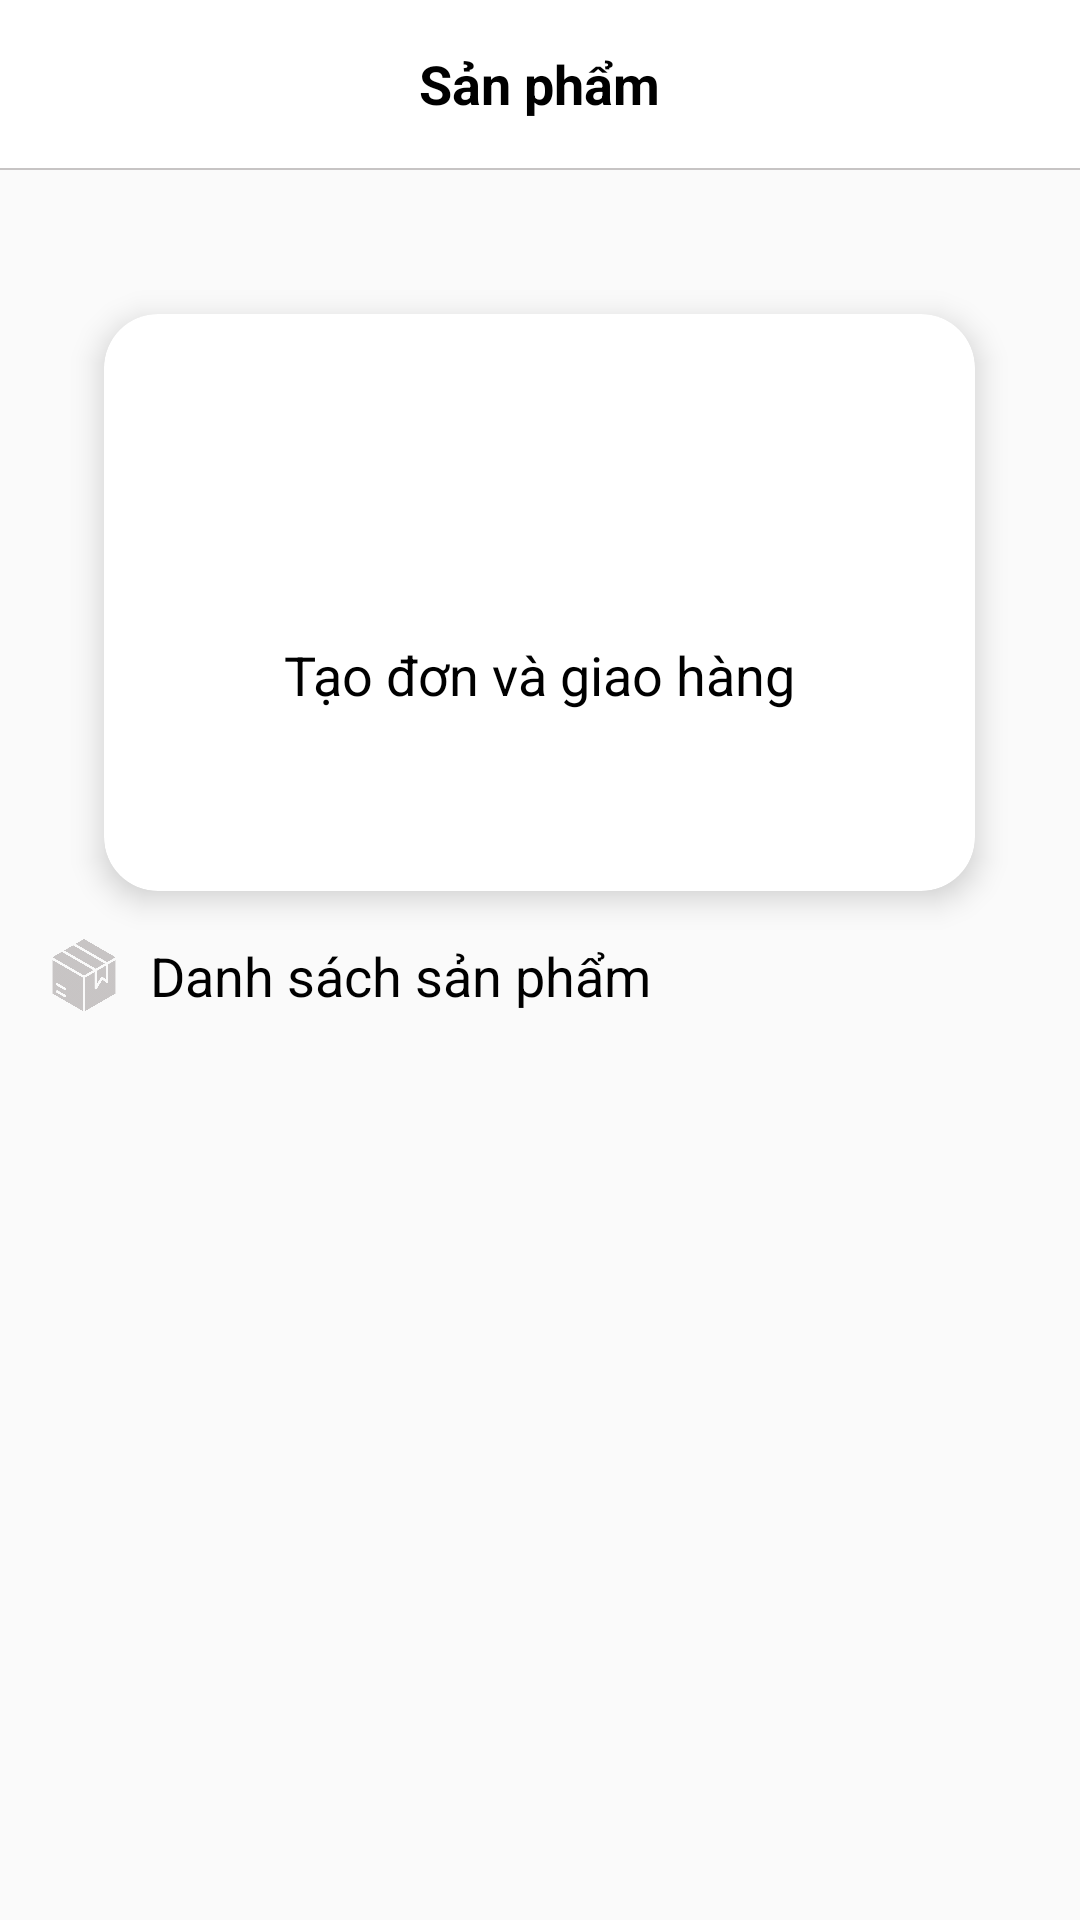

Icons on this 1080×1920 Android screen, each with the point to tap as point (x, y):
list product: point (84, 975)
